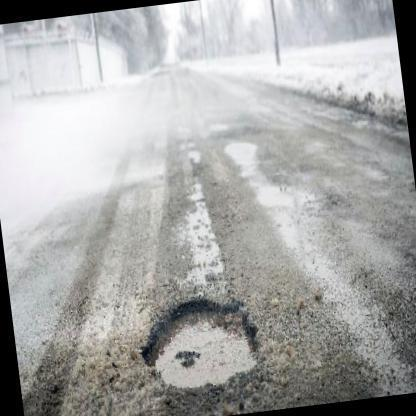pothole: (140, 292, 260, 392)
